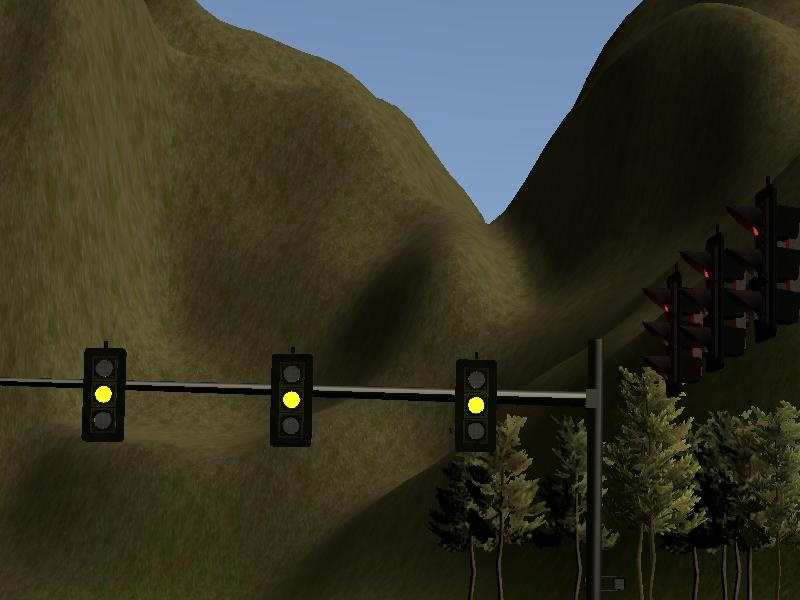YELLOW: (79, 345, 128, 444), (267, 350, 316, 449), (450, 356, 499, 455)
